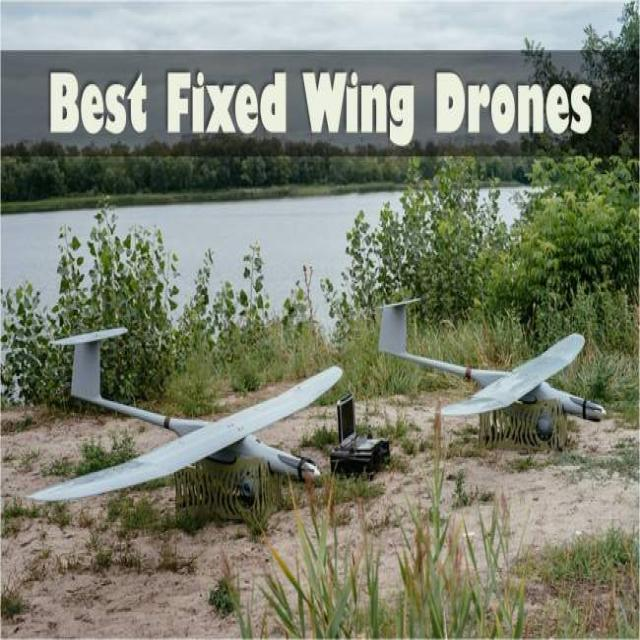iha: (374, 281, 619, 449)
